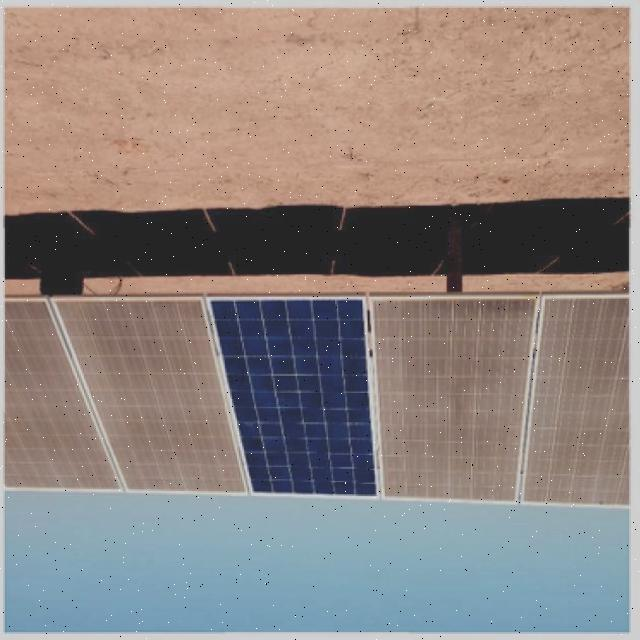Normal Solar Panel: (206, 296, 378, 498)
